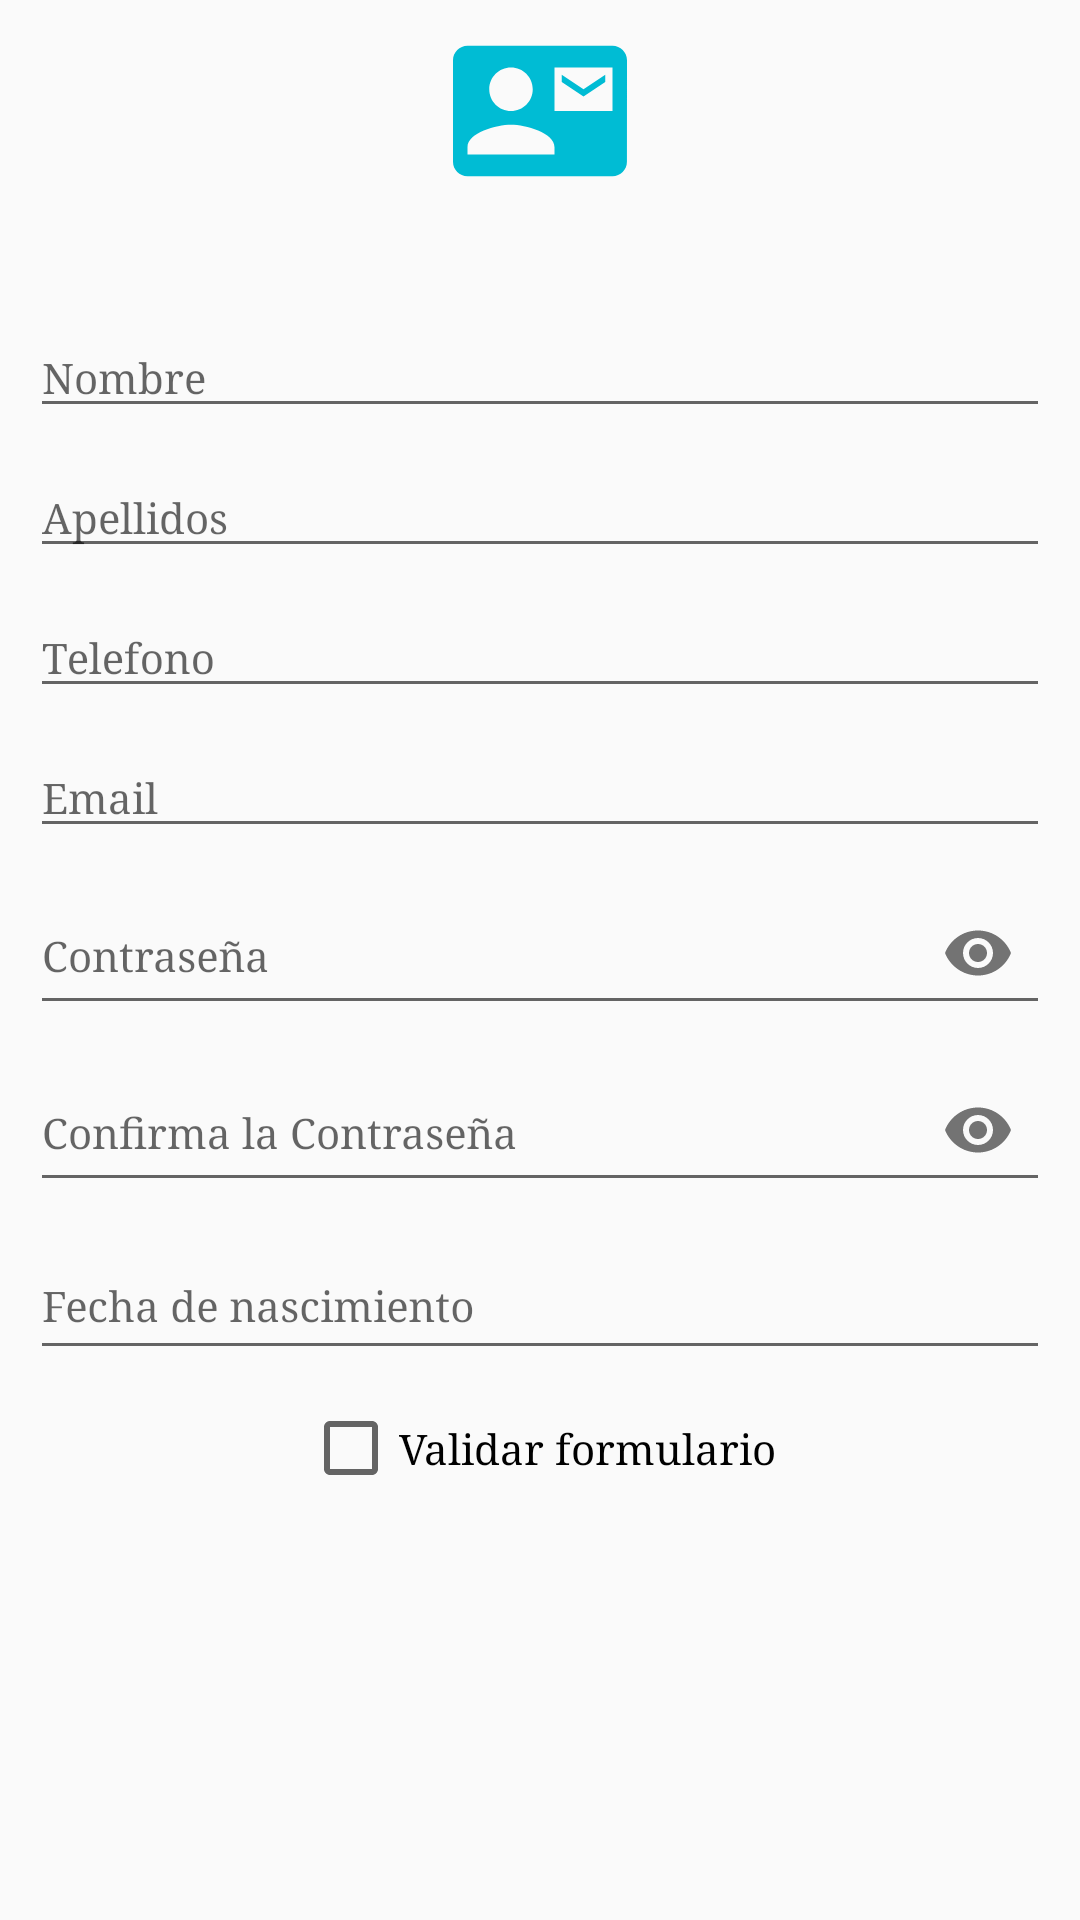

Point at icon controls on the screen. Image size 1080 x 1920, points as point (x, y).
datos contacto: point (540, 111)
